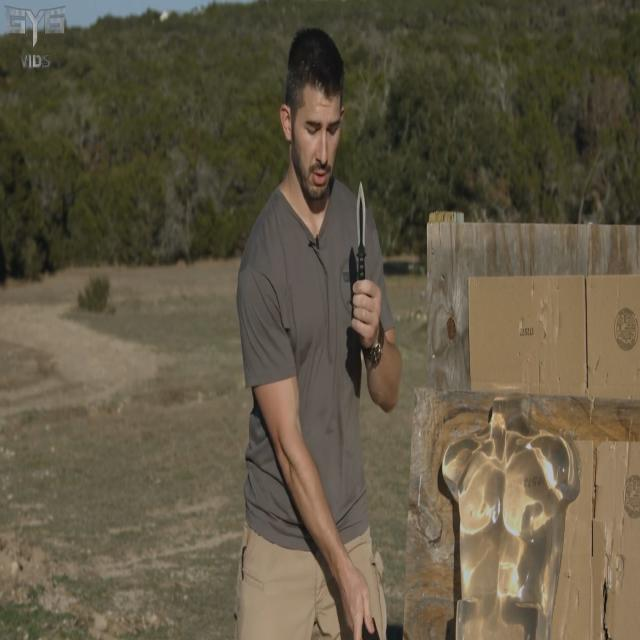knife: (354, 179, 368, 282)
